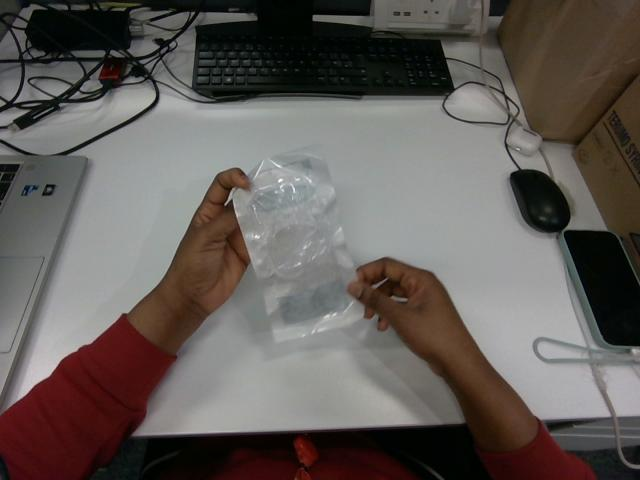gallipot: (233, 146, 363, 340)
